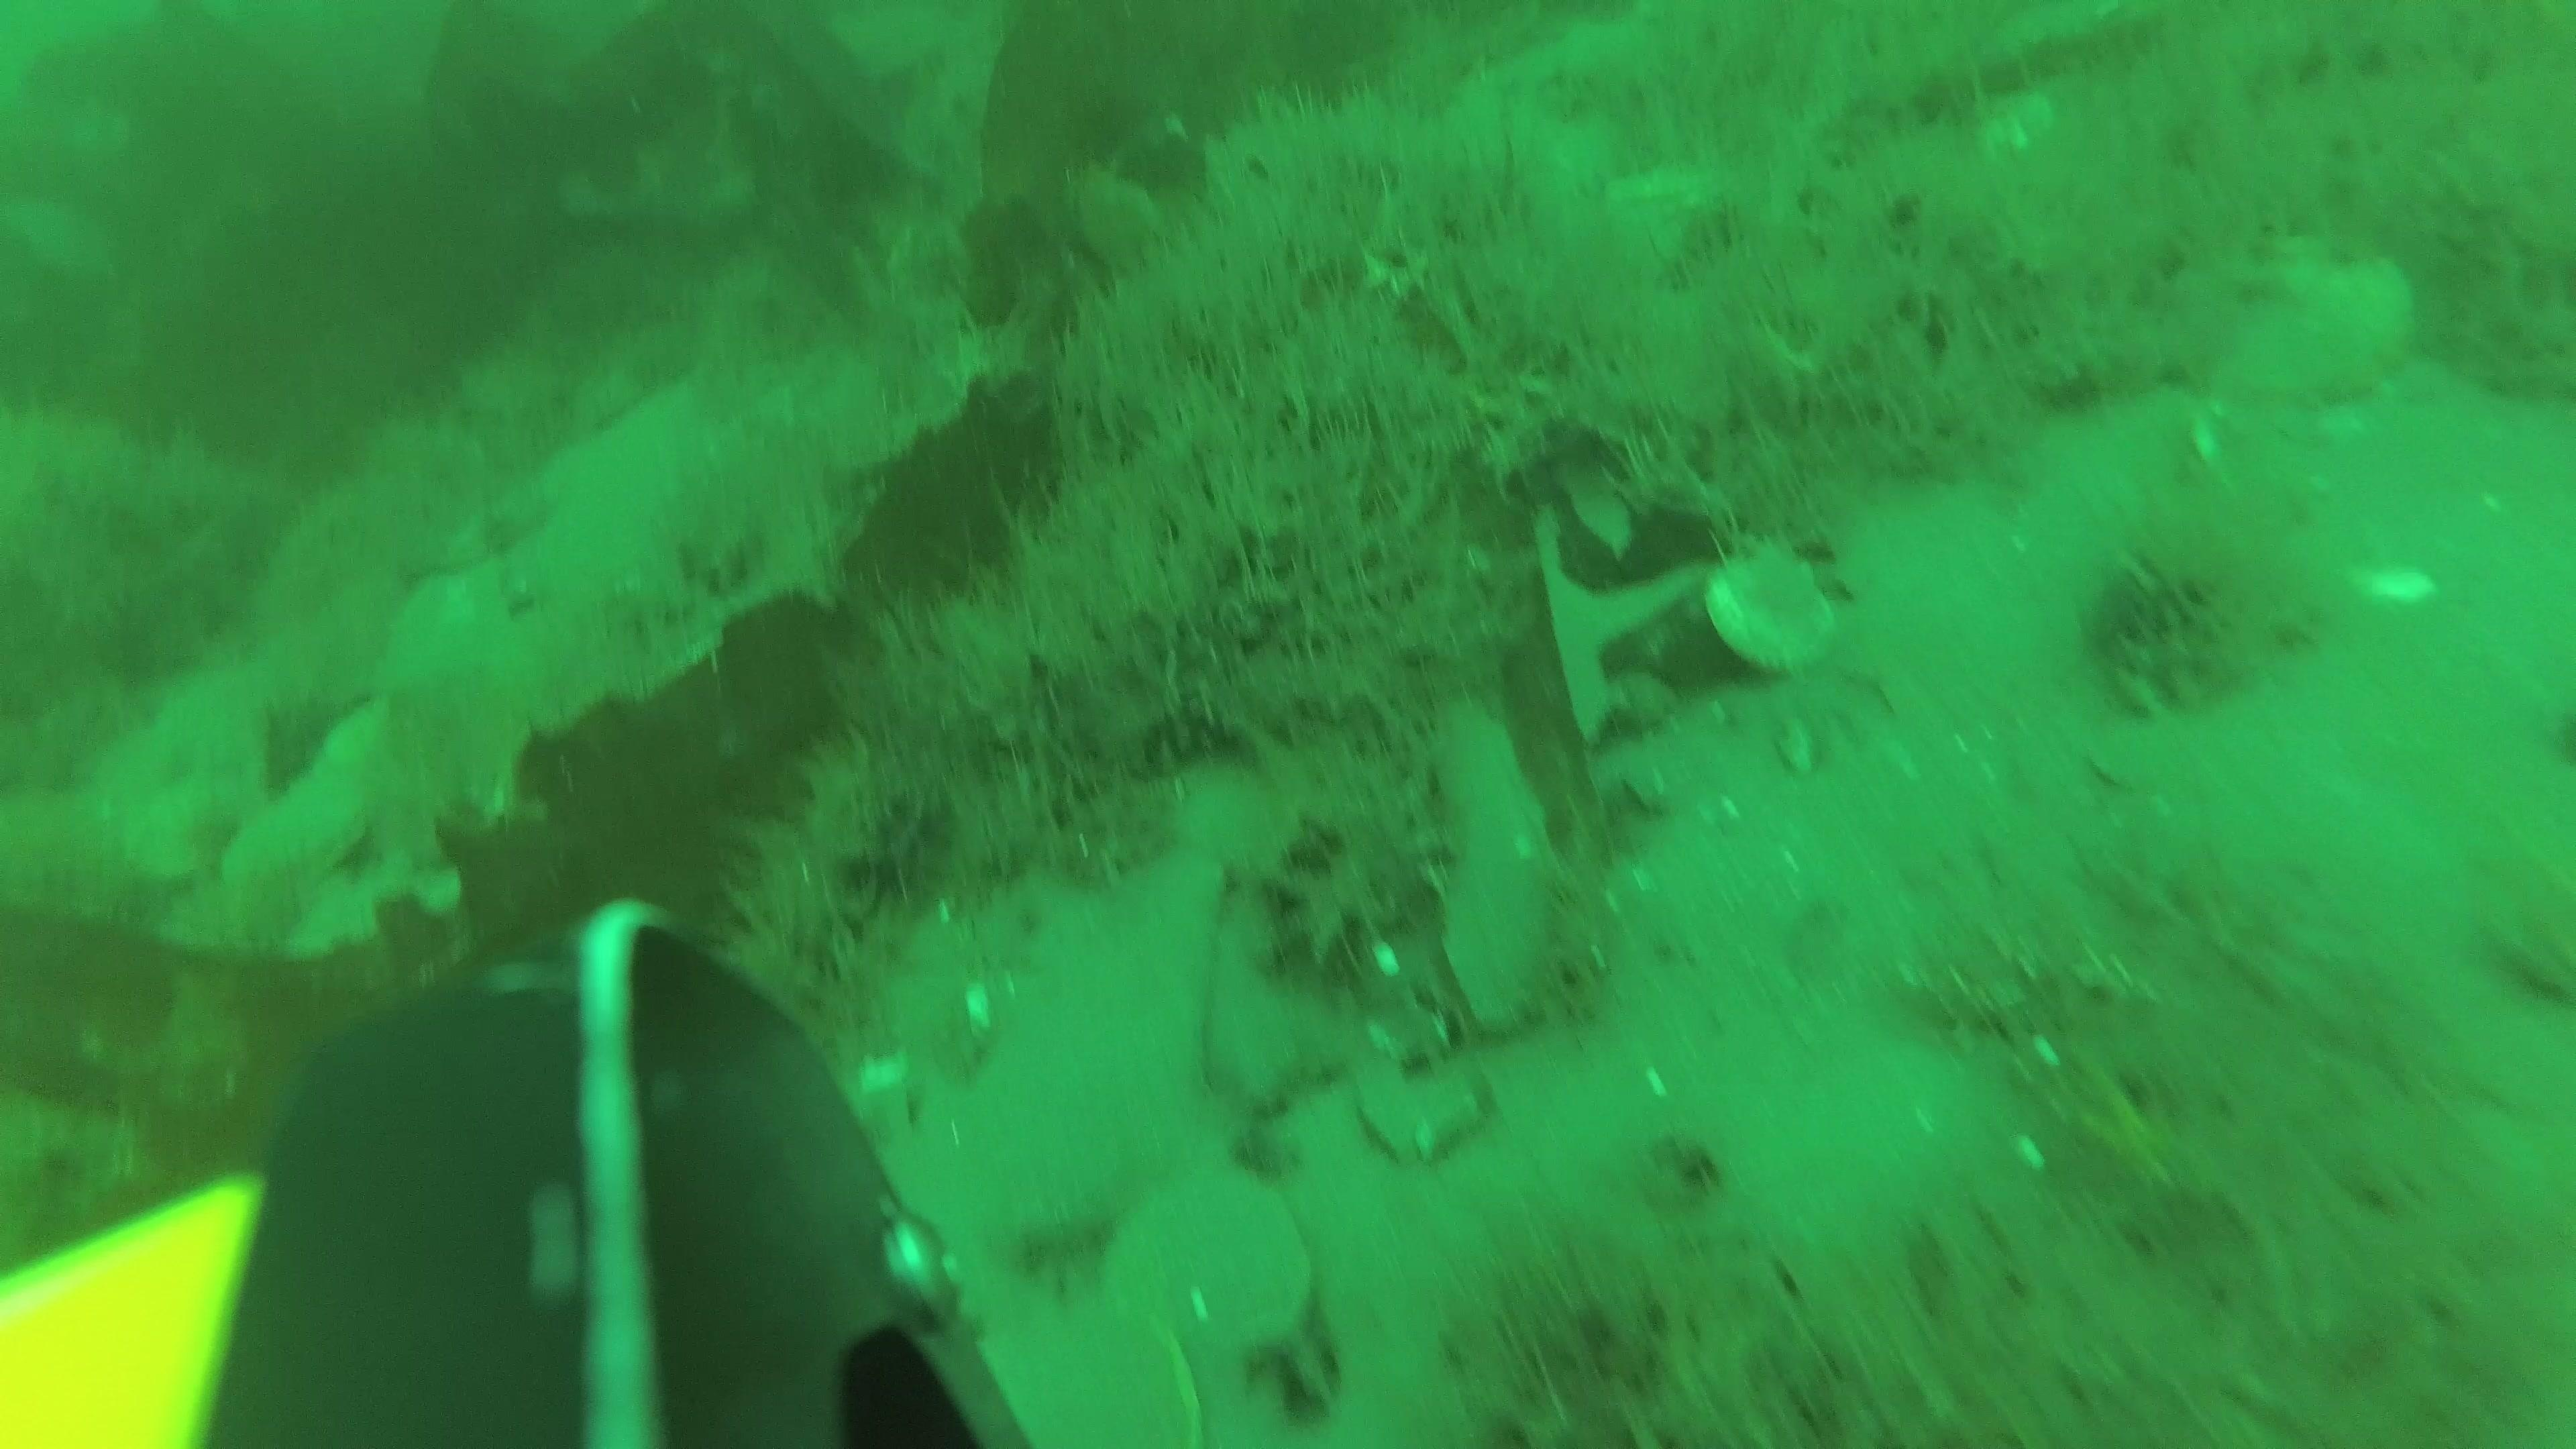scallop: (2166, 235, 2415, 407), (1108, 1168, 1309, 1357), (978, 1295, 1203, 1449), (1704, 538, 1838, 674), (225, 777, 375, 892)
